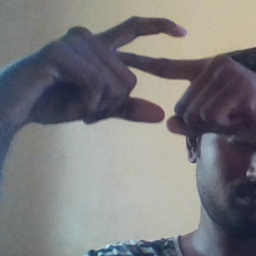E: (92, 13, 202, 127)
